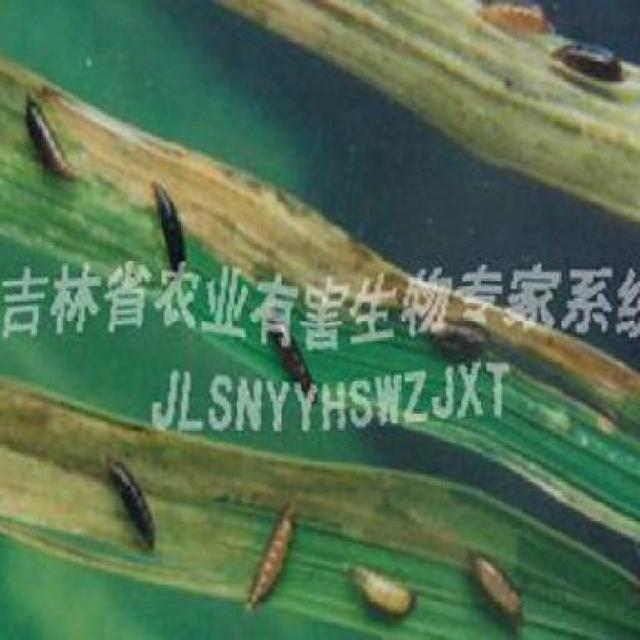whorl-maggot: (235, 495, 303, 620), (96, 448, 162, 560), (458, 536, 531, 626), (342, 549, 420, 628), (23, 92, 83, 194), (550, 29, 624, 86), (146, 176, 191, 256), (468, 0, 550, 42)
